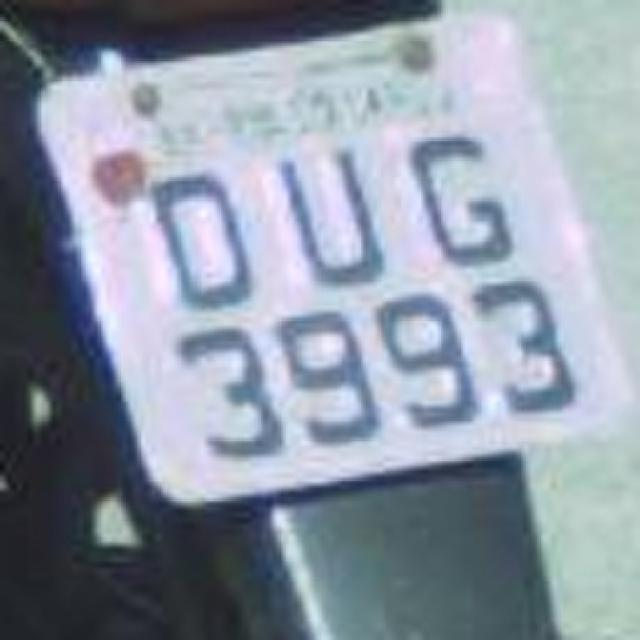3: (148, 300, 300, 480), (452, 256, 600, 424)
9: (360, 260, 488, 435), (264, 292, 396, 456)
G: (392, 108, 516, 272)
O: (140, 156, 268, 324)
U: (260, 128, 395, 304)
